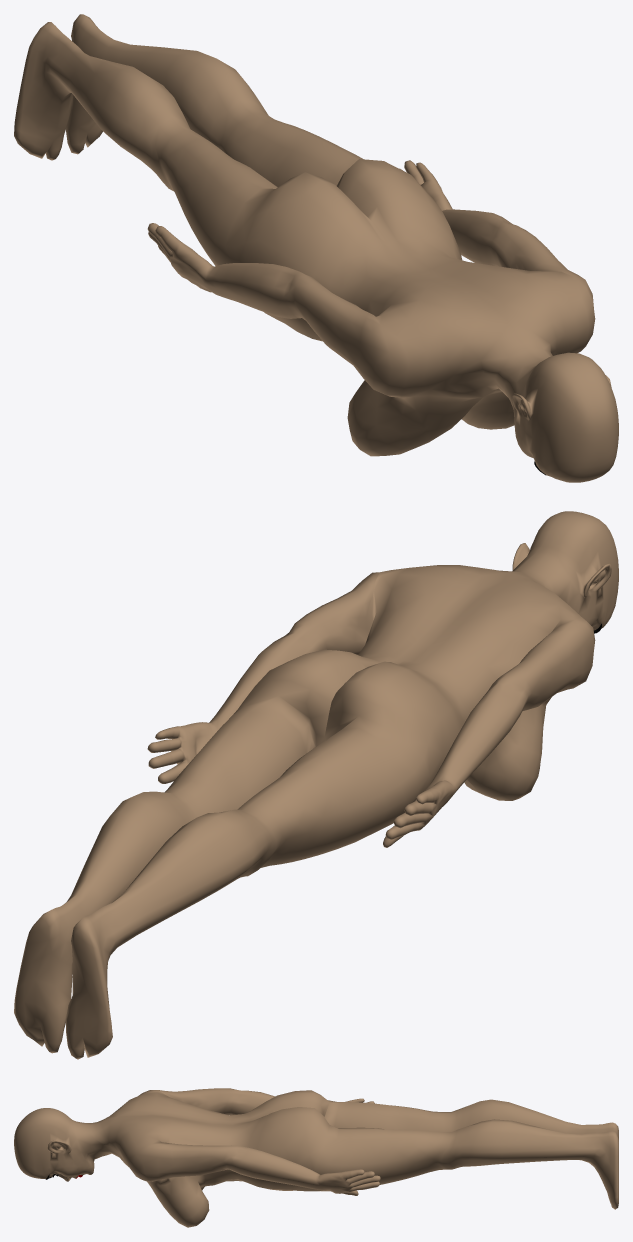
The model's file is fem.obj.
The picture shows the model from 3 angles, top to bottom: view 1: azimuth 30°, elevation 25°; view 2: azimuth 150°, elevation 25°; view 3: azimuth 270°, elevation 25°; orthographic projection. The views are drawn at different scales.
Visible parts, largest first — view 1: female; view 2: female; view 3: female.
Part boxes in pixels (x1=…): female: x1=14, y1=14, x2=618, y2=482; female: x1=14, y1=511, x2=618, y2=1059; female: x1=14, y1=1088, x2=618, y2=1227.
Size of the model in its own units: 0.7436 by 0.5119 by 2.59.
